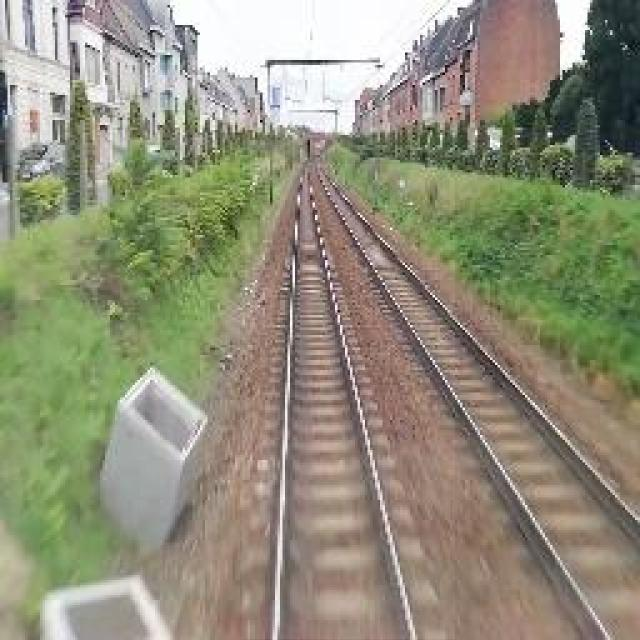rail: (243, 166, 456, 640)
